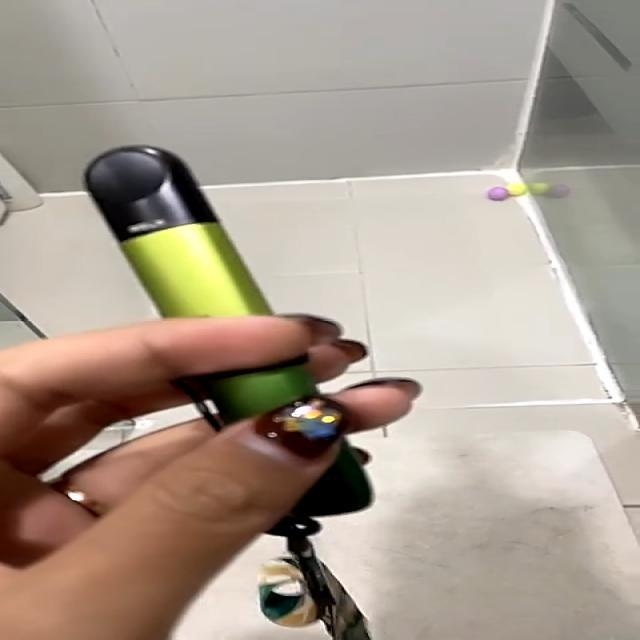Hazard: (80, 143, 378, 518)
